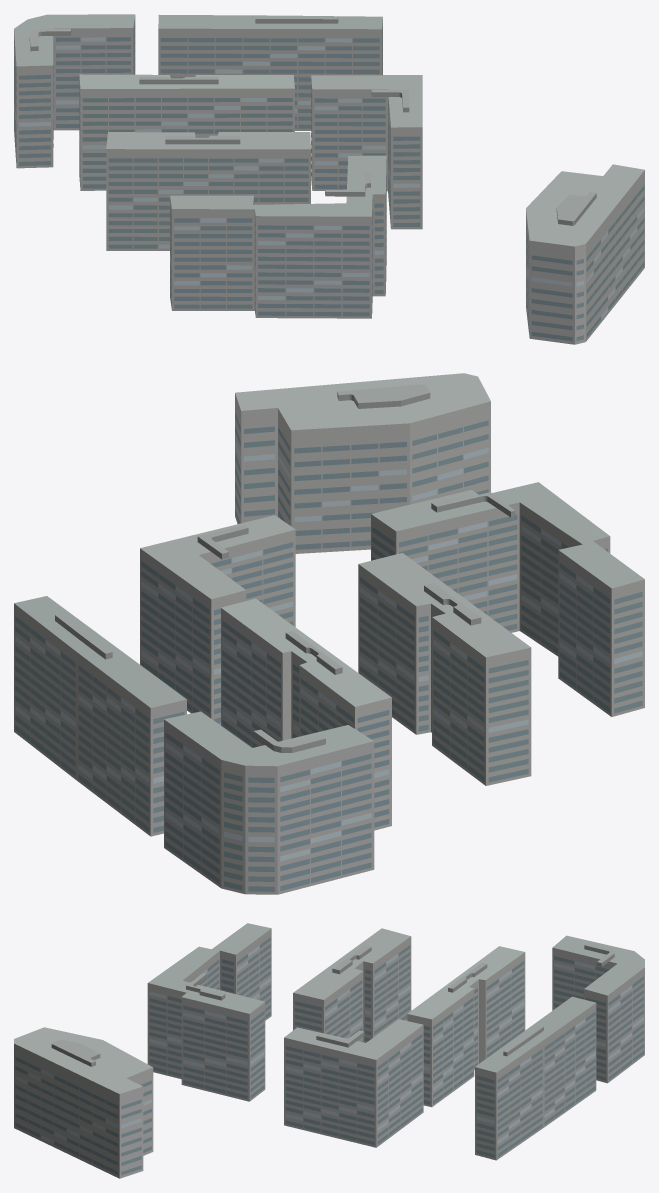
The model's file is apt-a15288611.glb.
3 views of the same model, one above another, from view 1: azimuth 30°, elevation 25°; view 2: azimuth 150°, elevation 25°; view 3: azimuth 270°, elevation 25° (orthographic). The views are drawn at different scales.
Parts seen in each view (by area): view 1: apt-a15288611; view 2: apt-a15288611; view 3: apt-a15288611.
Boxes of the visible parts, box(x1,y1,x2,y2) form: apt-a15288611: box(14, 14, 644, 344); apt-a15288611: box(14, 373, 644, 894); apt-a15288611: box(14, 923, 644, 1178).
Size of the model in its own units: 162 by 41.43 by 258.
